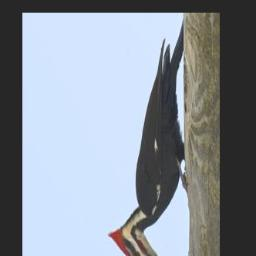Woodpecker: (106, 39, 187, 256)
